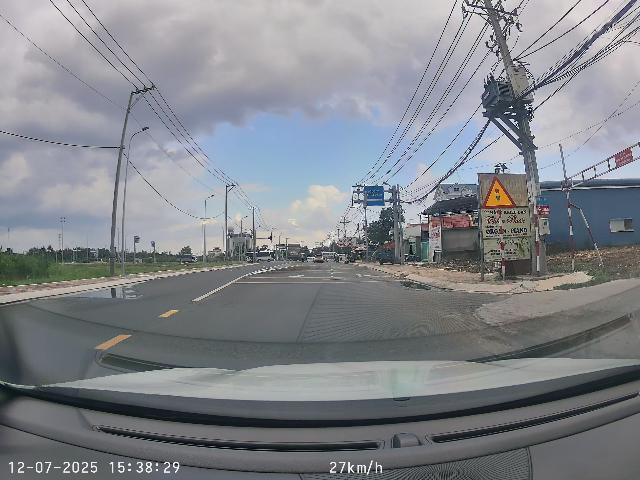209-giao-nhau-co-tin-hieu-den: (482, 176, 516, 210)
